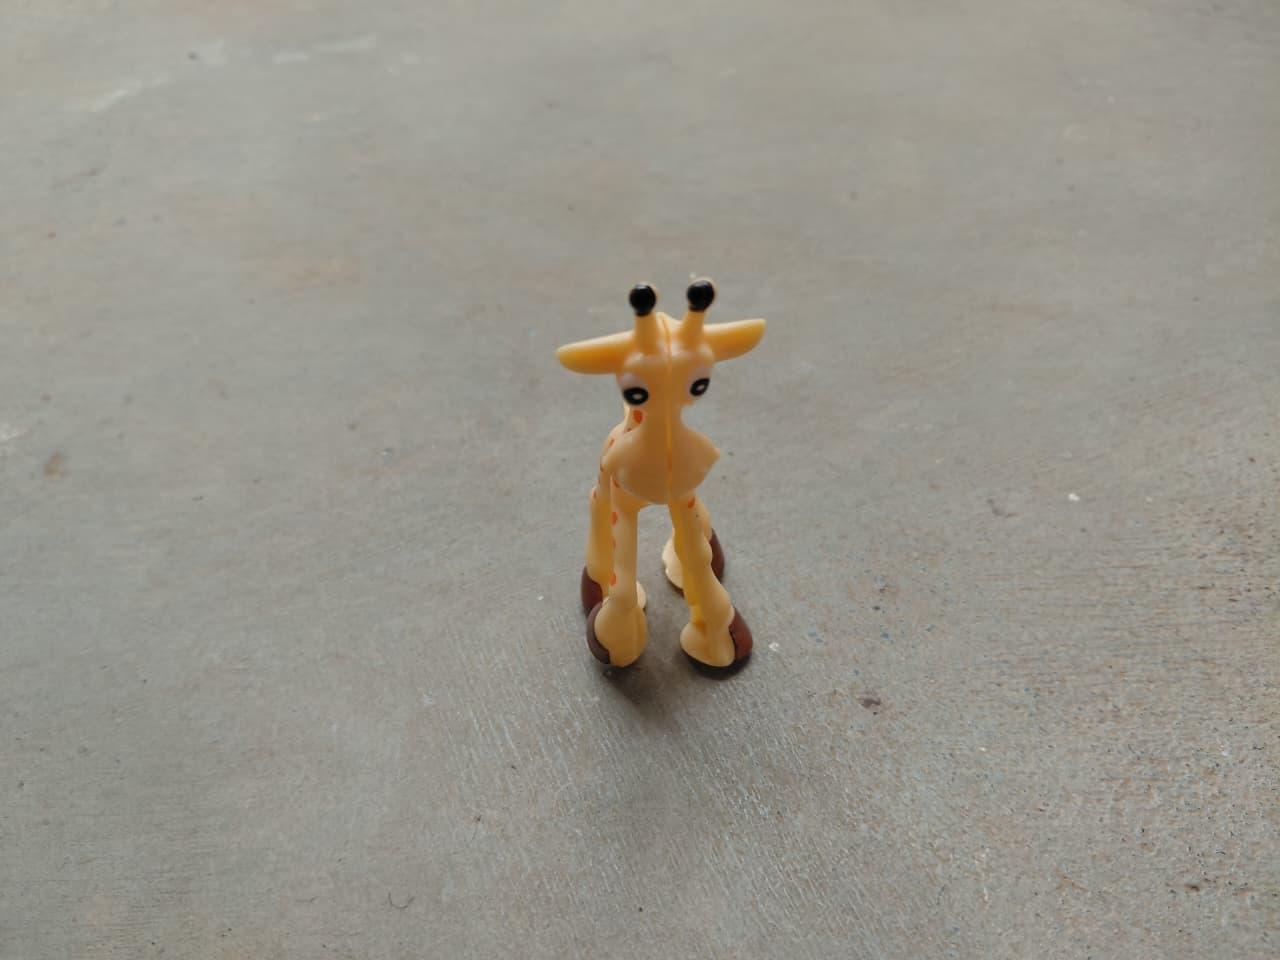giraffe: (546, 276, 779, 686)
